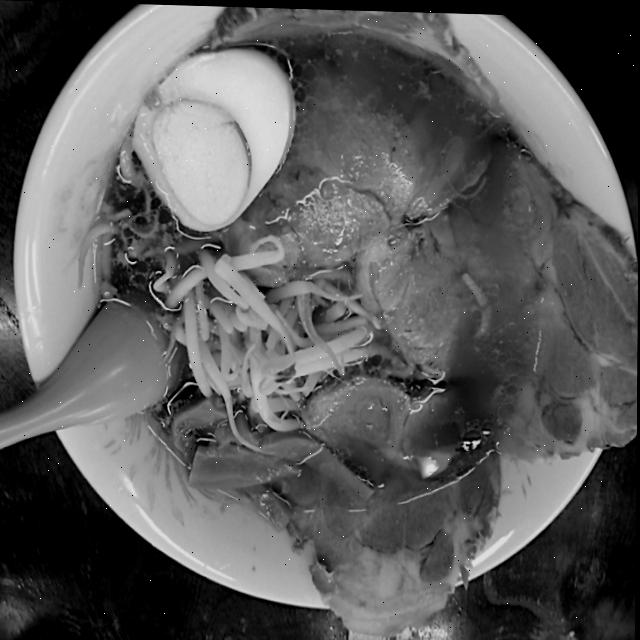面条主食: (75, 2, 566, 556)
